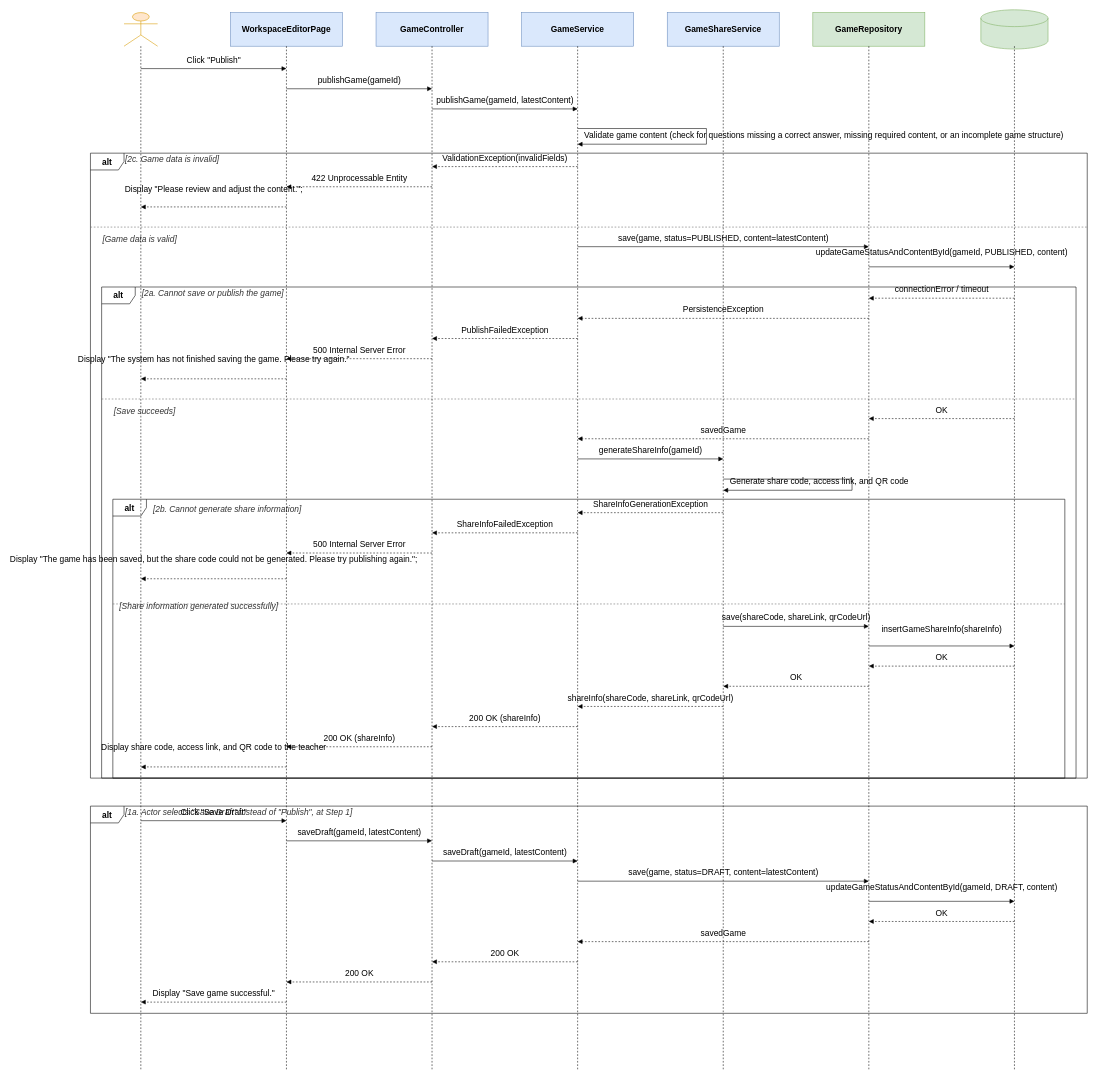
The diagram is 1098 pixels wide and 1080 high, and some of its shapes have lost their labels. The shapes that lost their labels are listed below. From the top down, each one's centre as x and y in pixels, then its label:
pixel 140 29: Teacher (Actor)
pixel 1014 29: PostgreSQL
